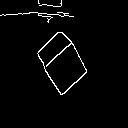cube: (28, 27, 93, 99)
